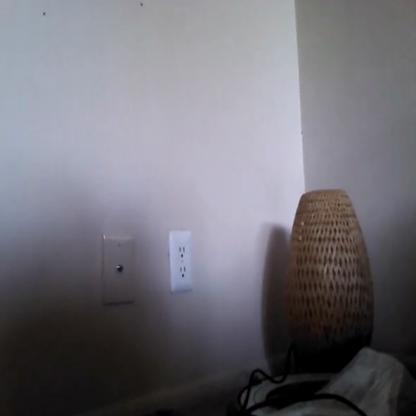OUTLET: (168, 231, 193, 292)
